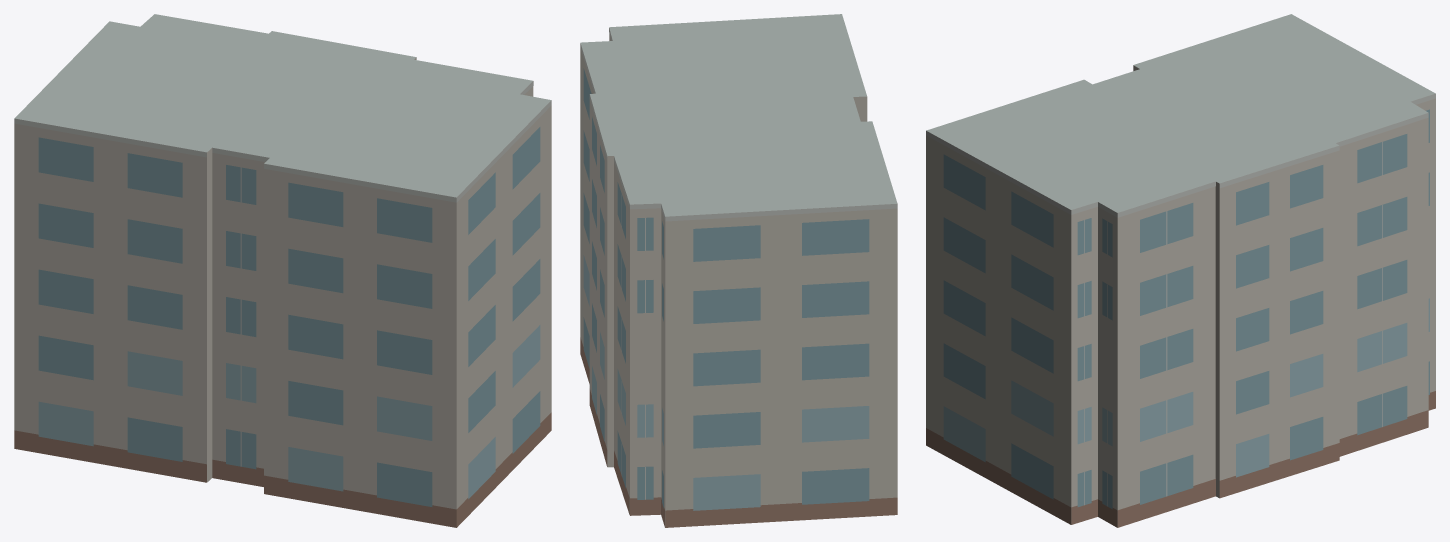
Rendered from survey-upis-32710489.glb.
3 renders of one model, left to right at view 1: azimuth 30°, elevation 25°; view 2: azimuth 150°, elevation 25°; view 3: azimuth 270°, elevation 25°, orthographic. The views are drawn at different scales.
Visible parts, largest first — view 1: survey-upis-32710489.tmp; view 2: survey-upis-32710489.tmp; view 3: survey-upis-32710489.tmp.
Boxes of the visible parts, box(x1,y1,x2,y2) form: survey-upis-32710489.tmp: box(14, 14, 551, 527); survey-upis-32710489.tmp: box(580, 14, 897, 527); survey-upis-32710489.tmp: box(926, 14, 1435, 527).
Bounding box in the file's own units: 21.43 × 15.8 × 23.19.
